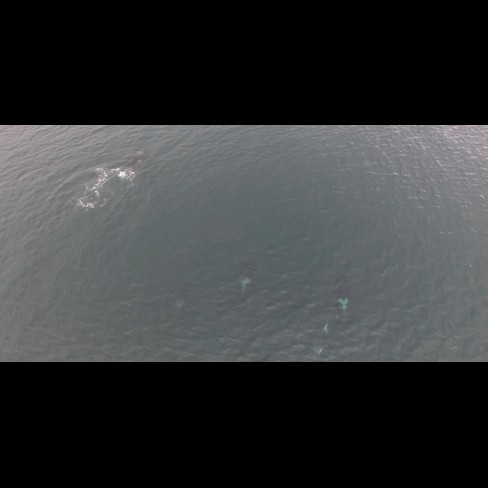orca: (228, 248, 265, 325), (329, 261, 357, 330)
